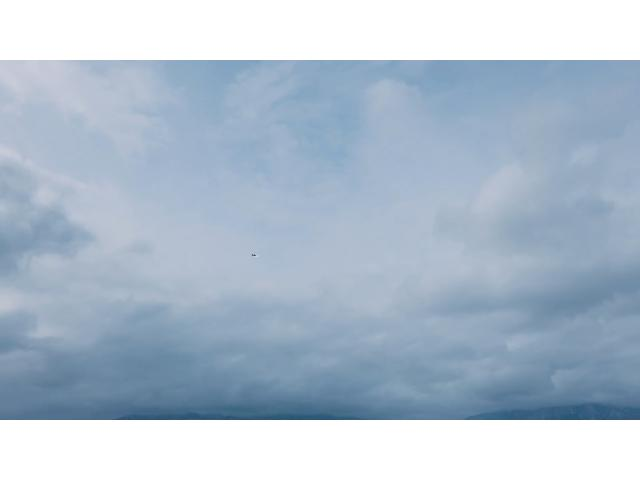Anti-Drone: (249, 252, 259, 260)
